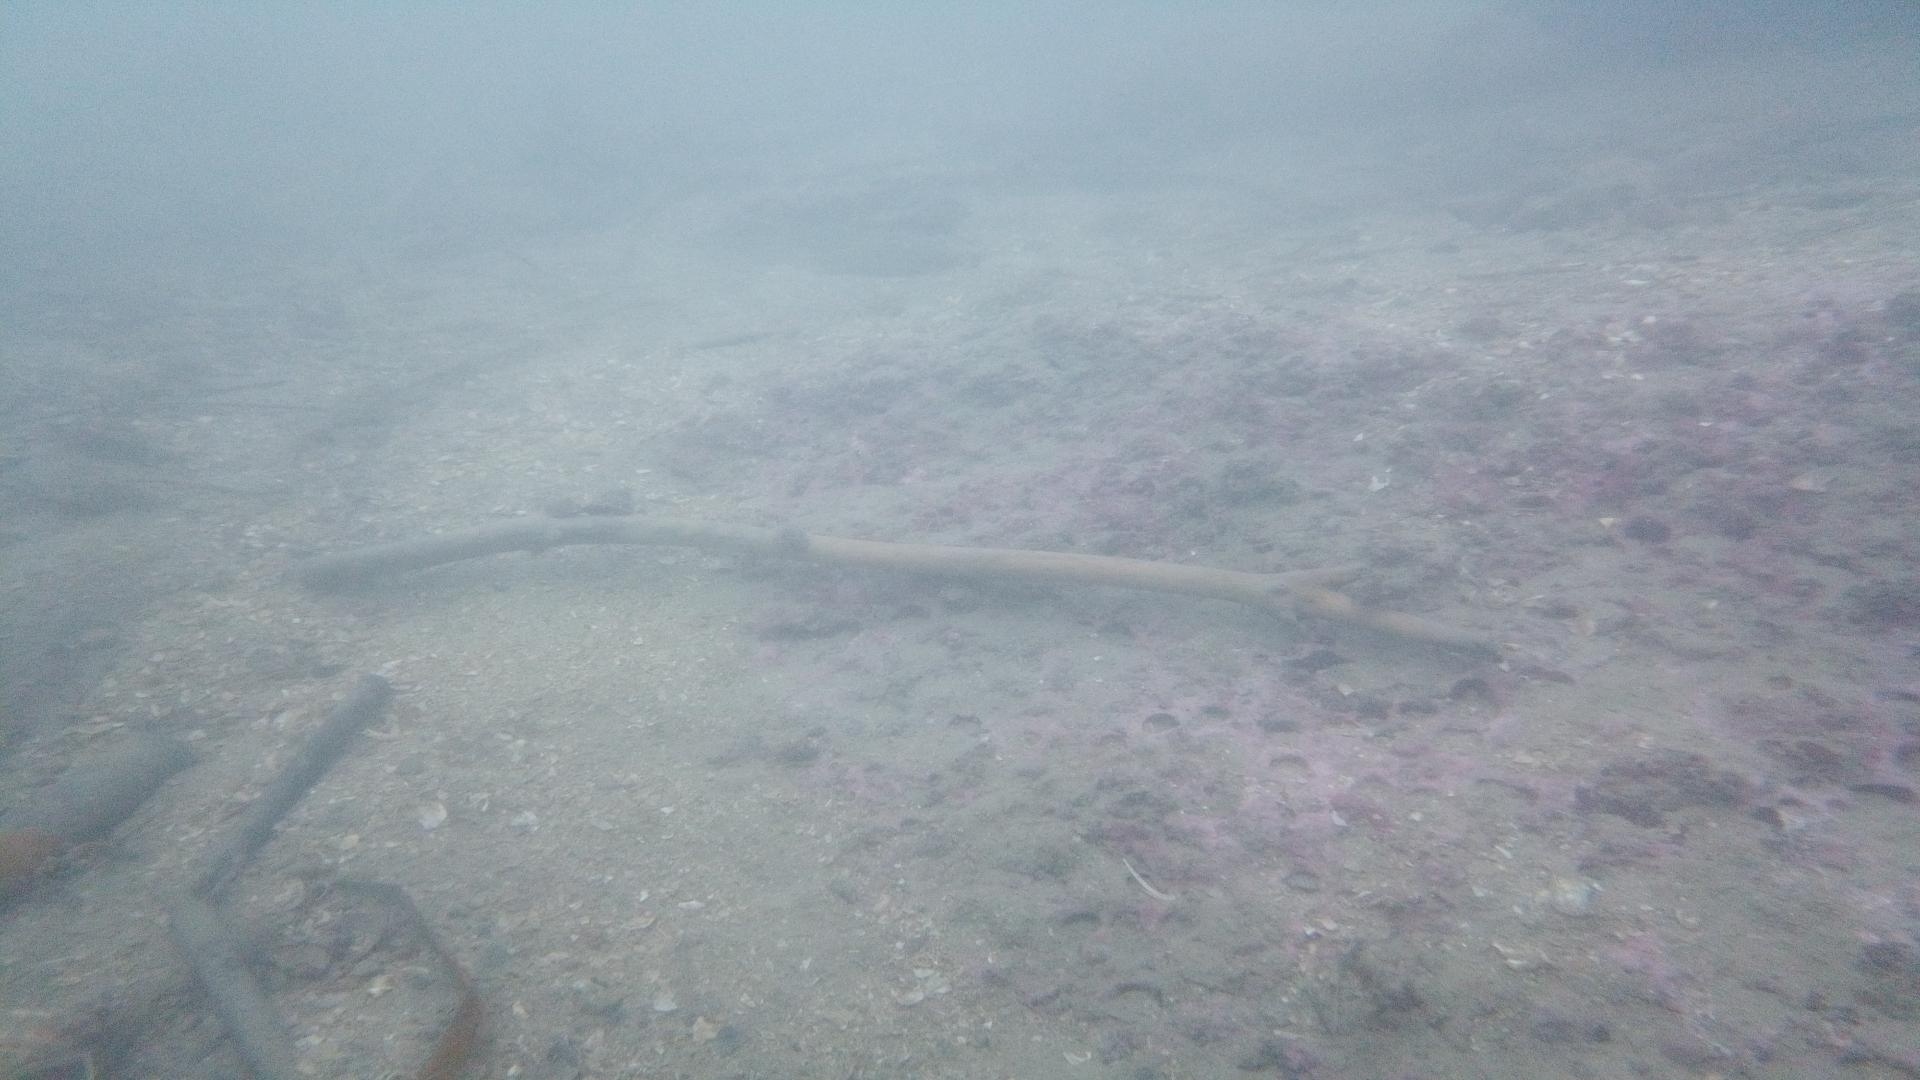wood: (297, 510, 1571, 684)
